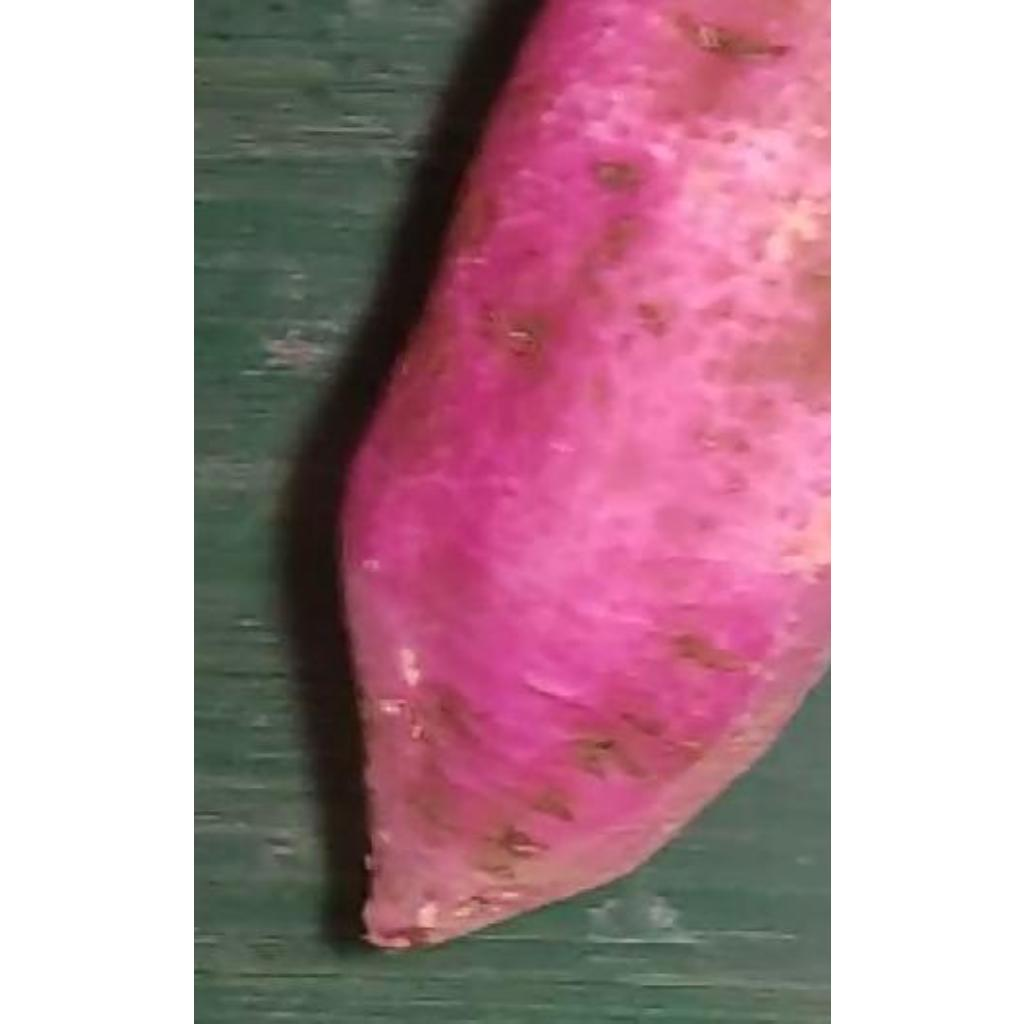Sweet Potato: (336, 11, 817, 956)
